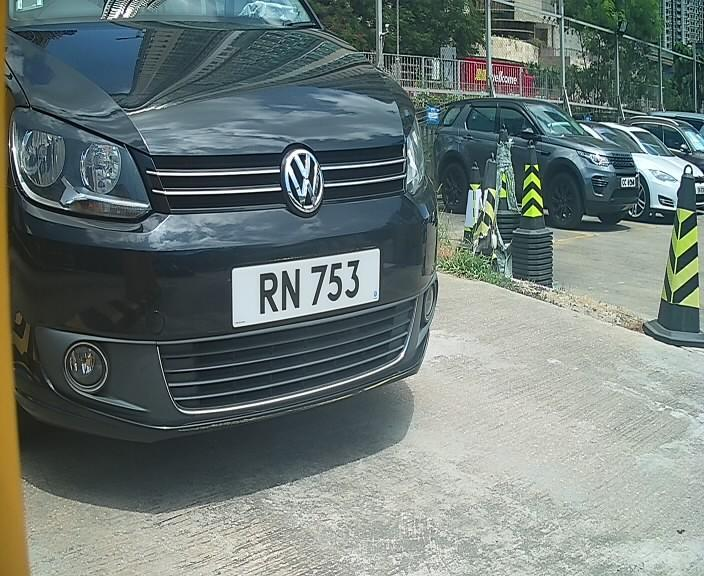privatecar: (1, 8, 472, 453)
